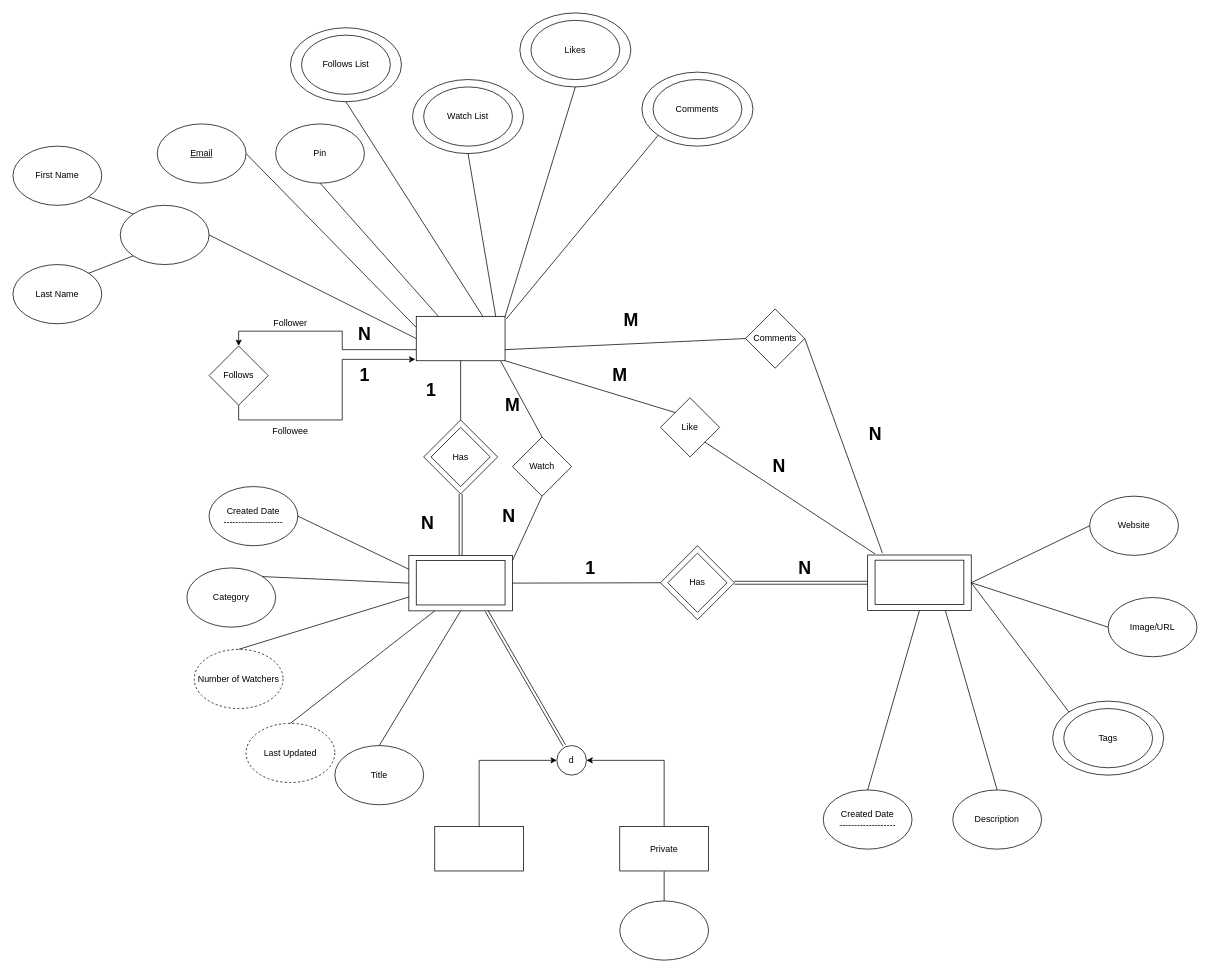
Image size: 1210x973. Some labels were removed from this diagram. The shapes that lost their labels are listed below. From the top down, each one's centre as x and y in pixels, then its label:
At point 164,235: "Name".
At point 460,338: "User".
At point 460,582: "CorkBoard".
At point 919,582: "PushPin".
At point 479,848: "Public".
At point 664,930: "Password".
